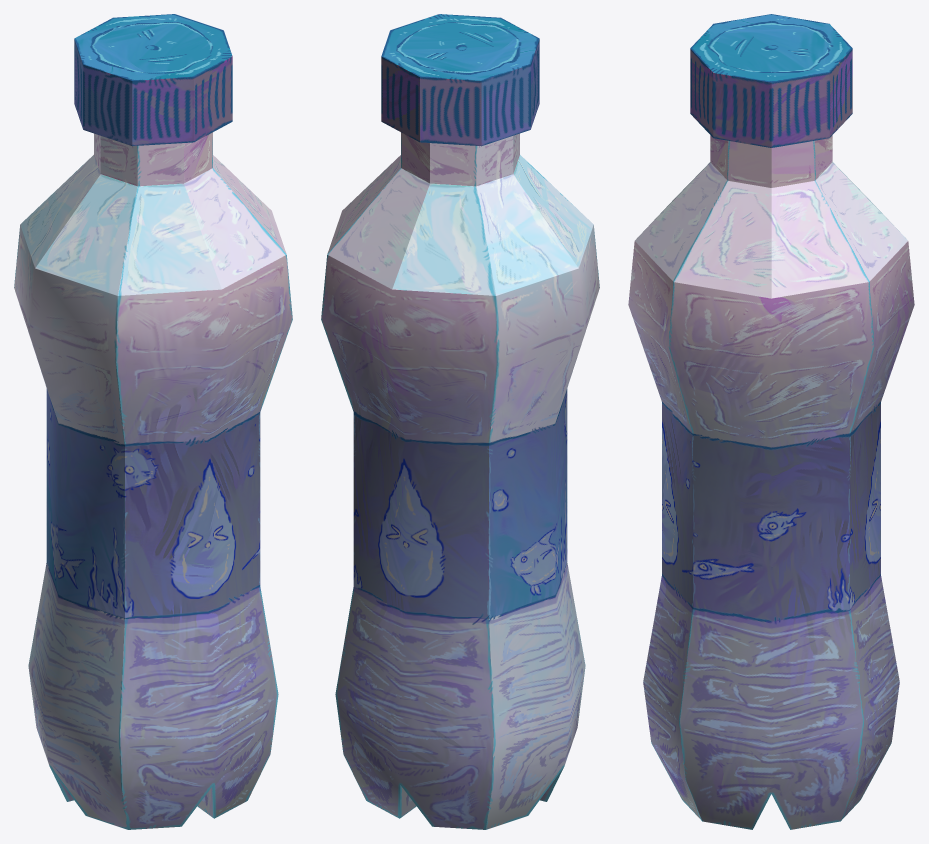
File: Water_bottle.fbx
3 views of the same model, side by side, from view 1: azimuth 30°, elevation 25°; view 2: azimuth 150°, elevation 25°; view 3: azimuth 270°, elevation 25° (orthographic).
Visible parts, largest first — view 1: Water_Bottle; view 2: Water_Bottle; view 3: Water_Bottle.
Part boxes in pixels (left/top/right/bottom): Water_Bottle: left=14, top=14, right=292, bottom=829; Water_Bottle: left=321, top=14, right=599, bottom=829; Water_Bottle: left=628, top=14, right=914, bottom=829.
Bounding box in the file's own units: 0.3351 × 0.9609 × 0.3351.
1 material, 1 textured.
